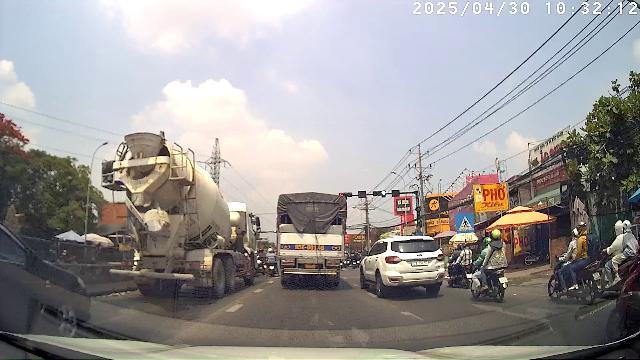423a-duong-nguoi-di-bo-sang-ngang-1: (456, 212, 474, 232)
